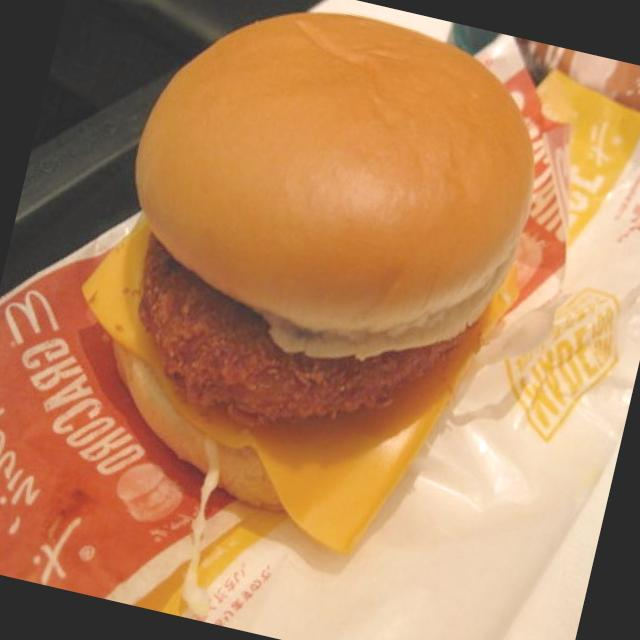Hamburger: (42, 0, 558, 562)
